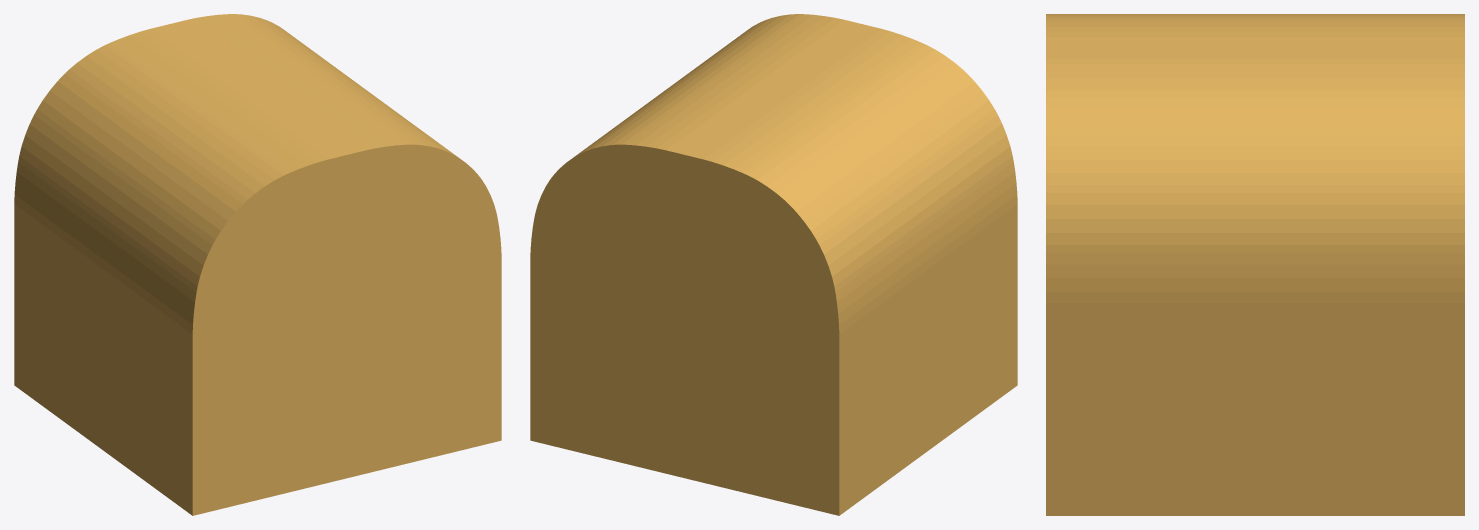
The picture shows the model from 3 angles, left to right: view 1: azimuth 30°, elevation 25°; view 2: azimuth 150°, elevation 25°; view 3: azimuth 270°, elevation 25°; orthographic projection. The views are drawn at different scales.
Parts seen in each view (by area): view 1: Cube.004; view 2: Cube.004; view 3: Cube.004.
Part boxes in pixels (x1,y1,x2,y2): Cube.004: [14, 14, 501, 515]; Cube.004: [530, 14, 1017, 515]; Cube.004: [1046, 14, 1464, 515].
Bounding box in the file's own units: 100 × 100 × 100.
